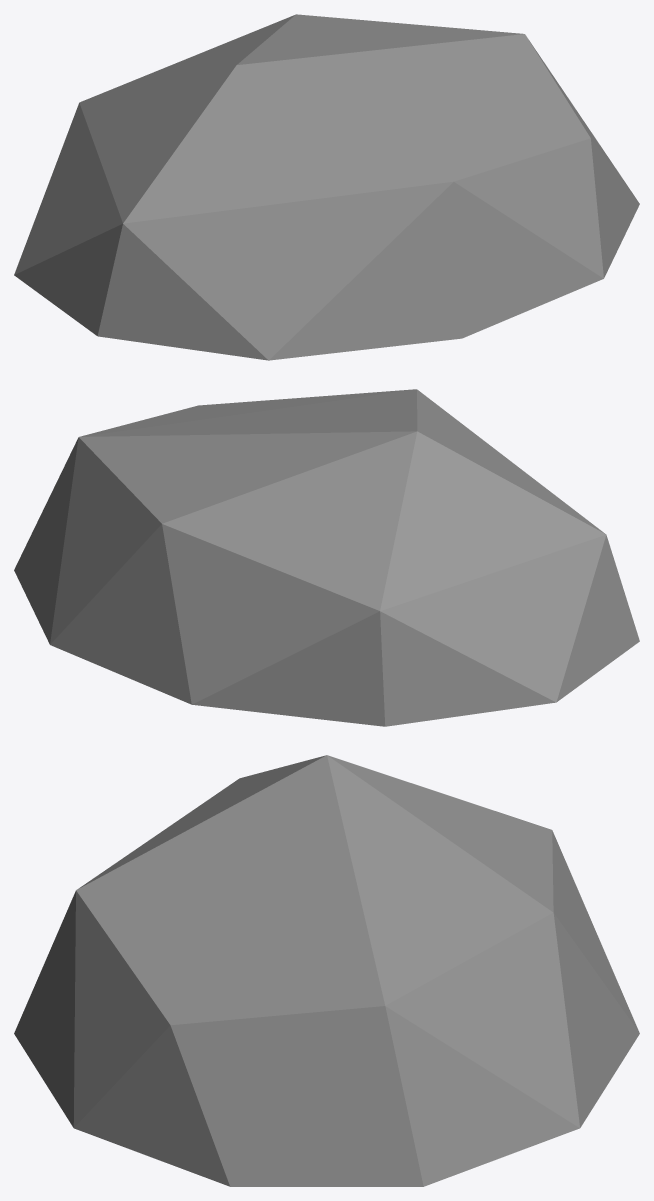
Rendered from Natures_Rock_Big.glb.
3 renders of one model, top to bottom at view 1: azimuth 30°, elevation 25°; view 2: azimuth 150°, elevation 25°; view 3: azimuth 270°, elevation 25°, orthographic. The views are drawn at different scales.
Parts seen in each view (by area): view 1: Natures_Rock_Big; view 2: Natures_Rock_Big; view 3: Natures_Rock_Big.
Part boxes in pixels (x1,y1,x2,y2): Natures_Rock_Big: [14, 14, 639, 360]; Natures_Rock_Big: [14, 389, 639, 726]; Natures_Rock_Big: [14, 755, 639, 1186].
Size of the model in its own units: 2.9 by 1 by 2.5.
1 material, 1 textured.
